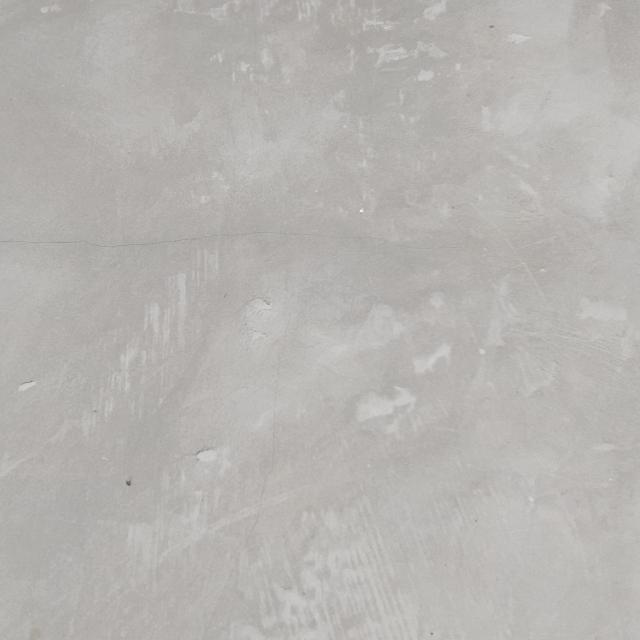Crack: (1, 228, 430, 247)
